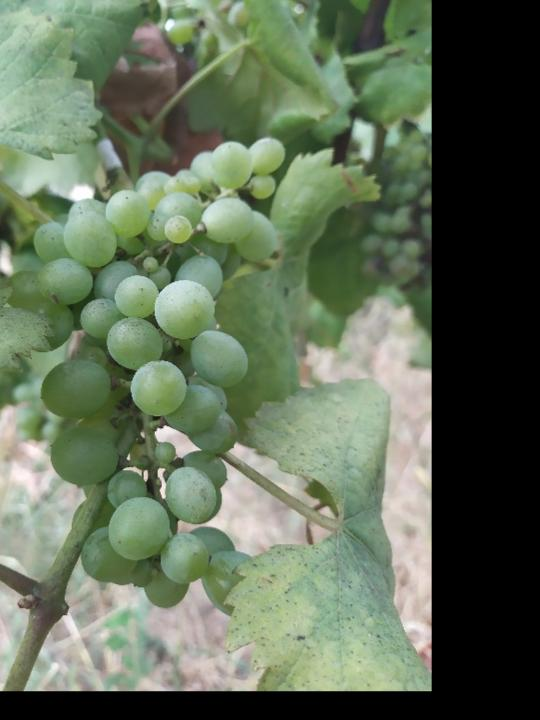grape: (8, 134, 289, 611)
